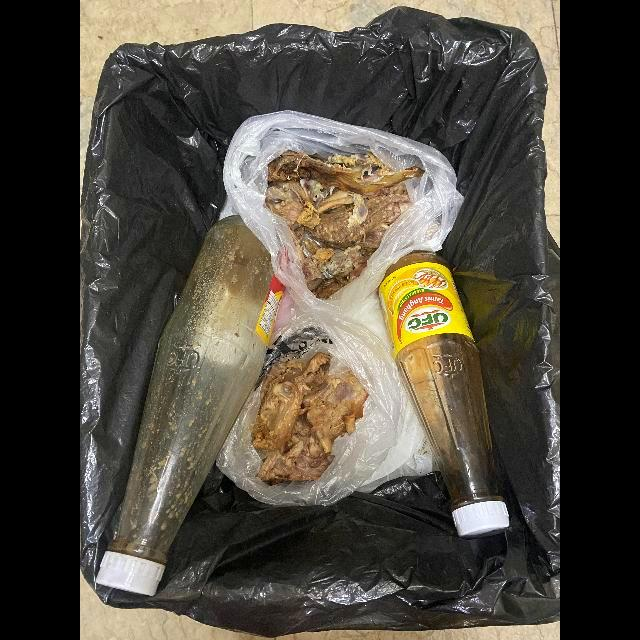glass_bottle: (95, 215, 284, 598), (378, 255, 510, 539)
left_over_food: (265, 150, 424, 300), (252, 352, 368, 485)
